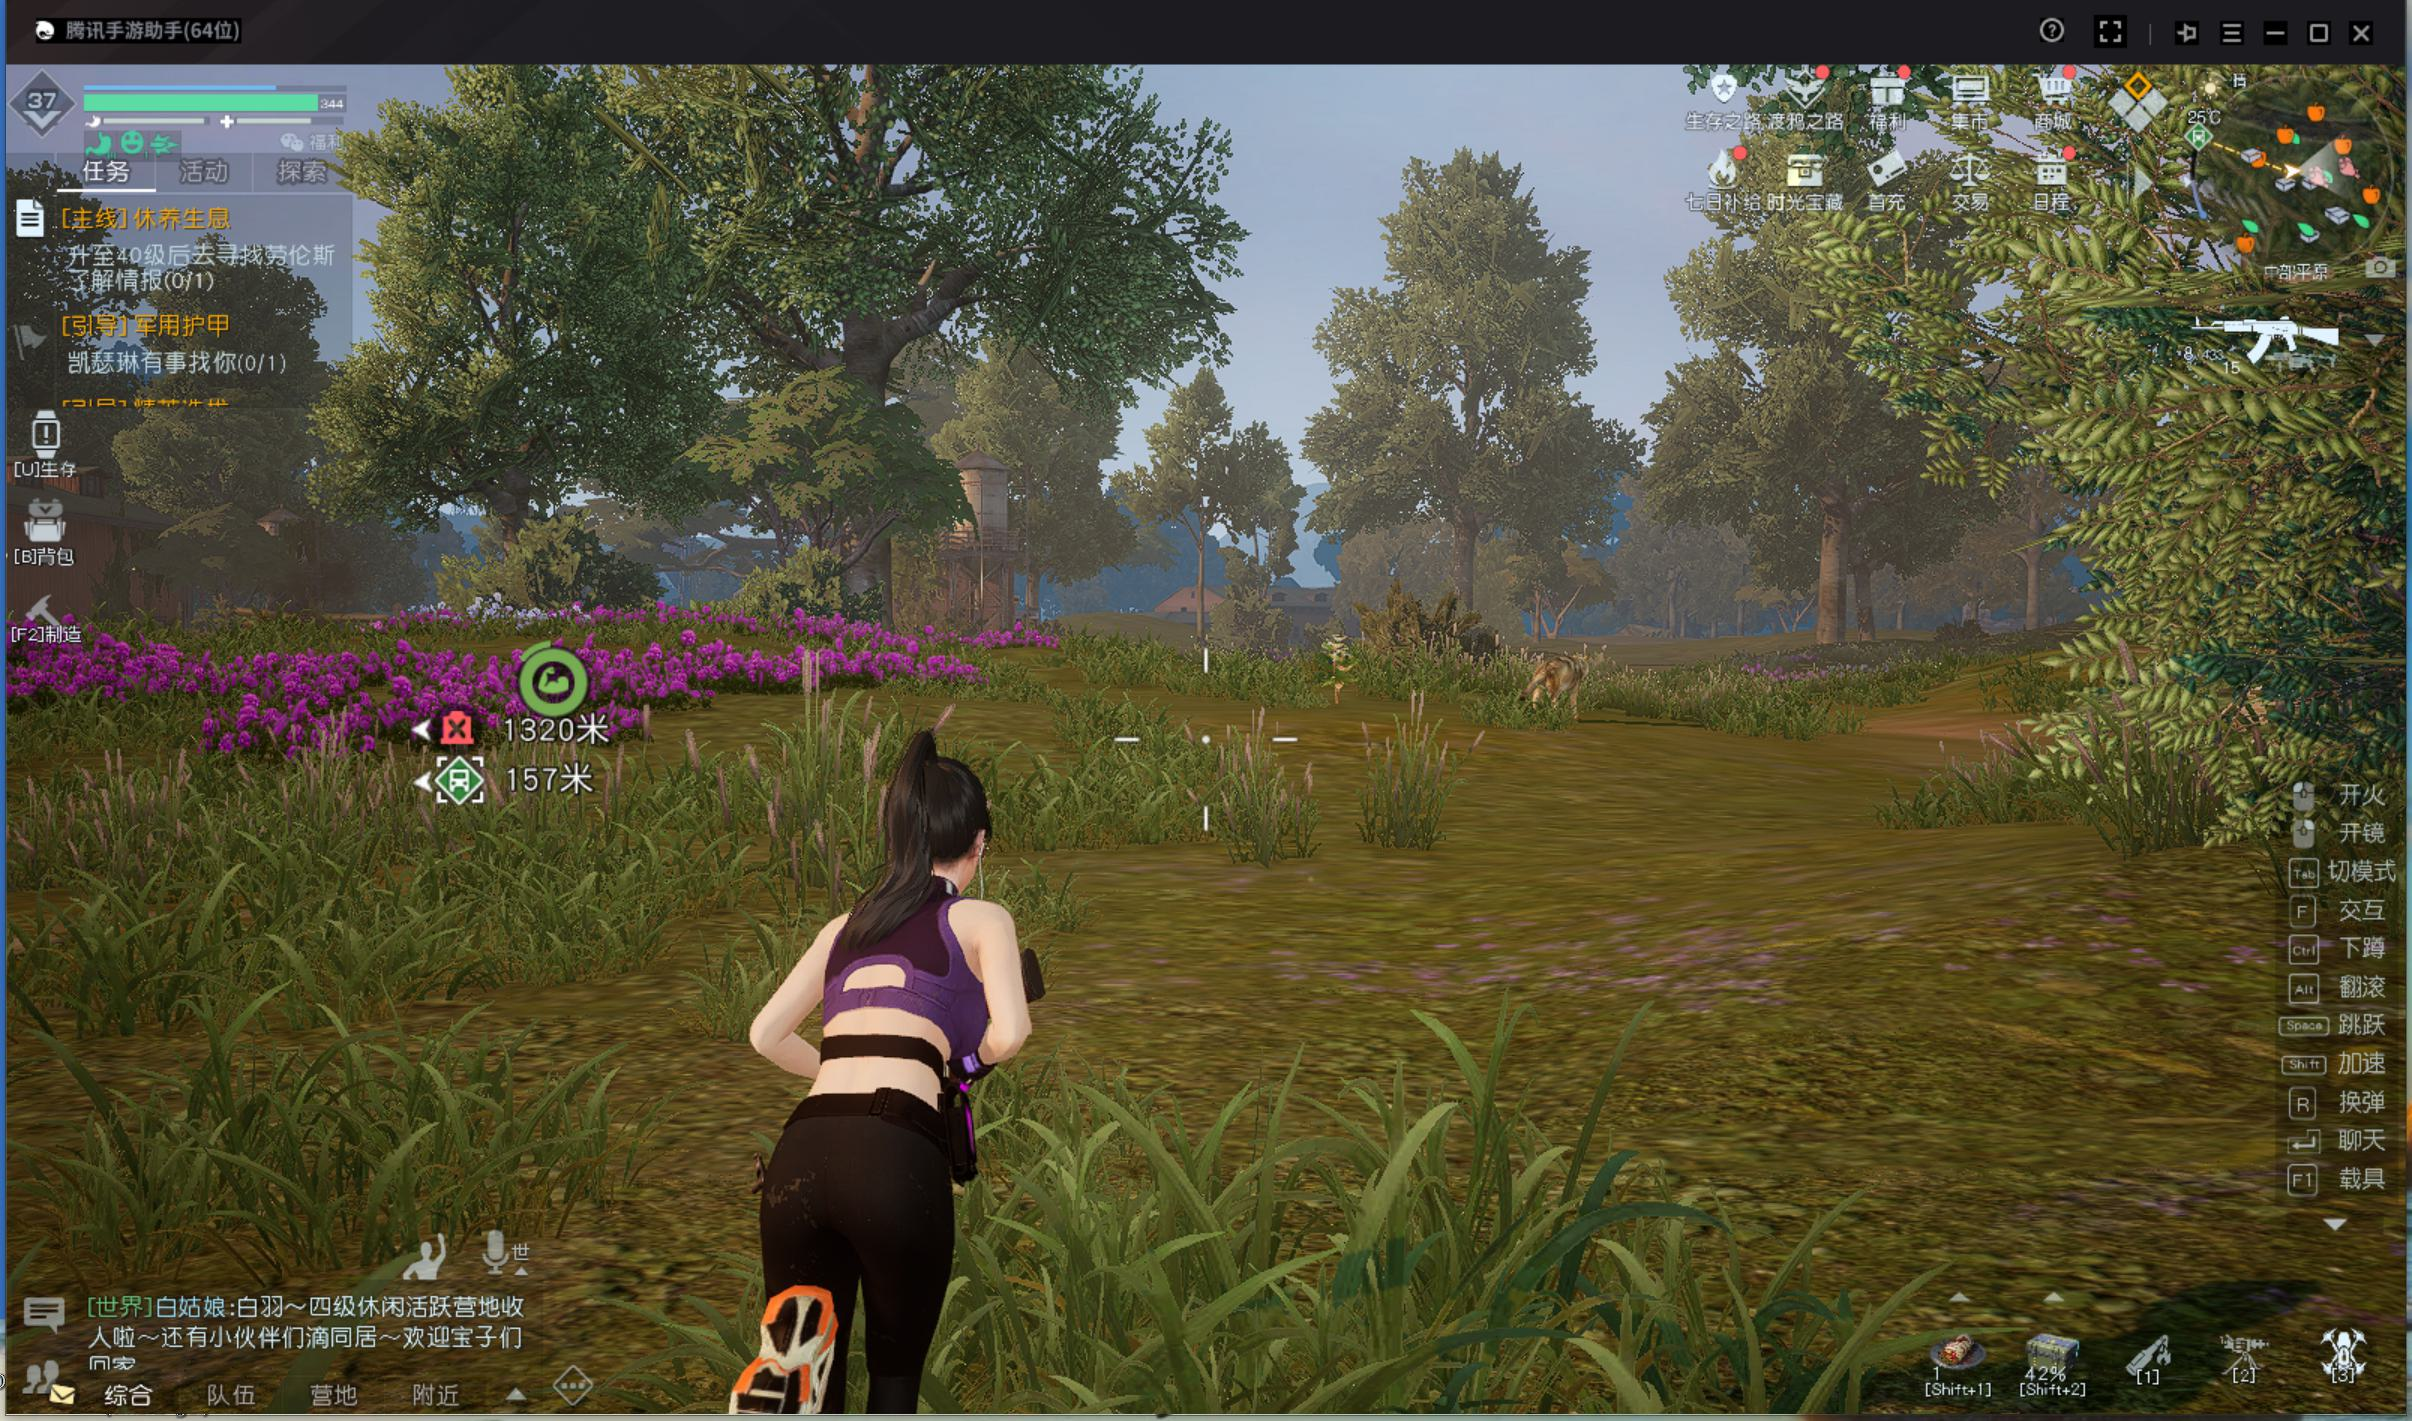tree: (825, 381, 924, 650), (1798, 519, 1854, 667), (1439, 516, 1485, 660), (2015, 536, 2053, 634)
